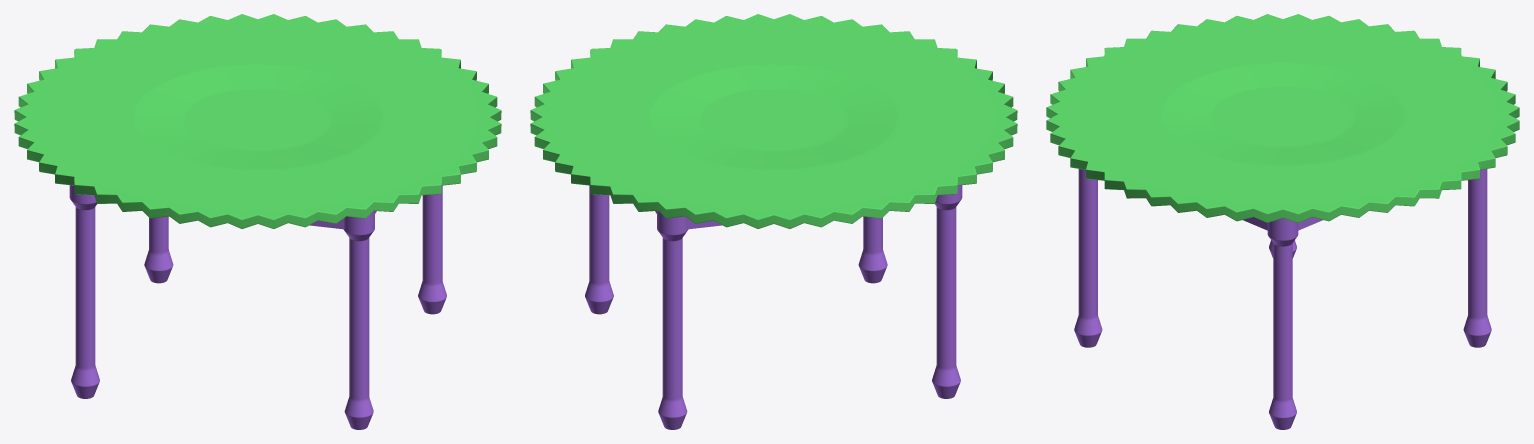
The model's file is table.fbx.
3 views of the same model, side by side, from view 1: azimuth 30°, elevation 25°; view 2: azimuth 150°, elevation 25°; view 3: azimuth 270°, elevation 25° (orthographic). The views are drawn at different scales.
Visible parts, largest first — view 1: Table, Leg; view 2: Table, Leg; view 3: Table, Leg.
Part boxes in pixels (x1,y1,x2,y2): Table: [14, 14, 501, 228]; Leg: [69, 185, 446, 429]; Table: [530, 14, 1017, 228]; Leg: [585, 185, 962, 429]; Table: [1046, 14, 1519, 222]; Leg: [1074, 169, 1491, 429].
Bounding box in the file's own units: 272 × 146 × 272.
